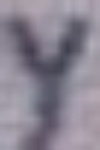Y: (0, 0, 99, 149)
